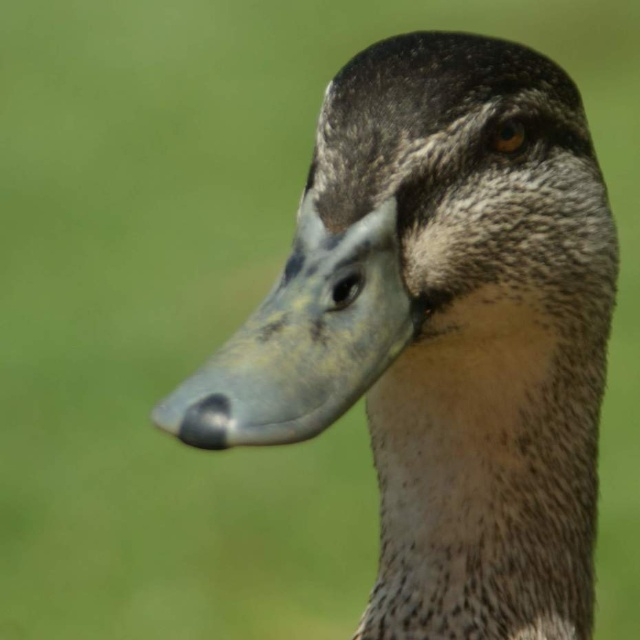Duck: (171, 0, 640, 640)
